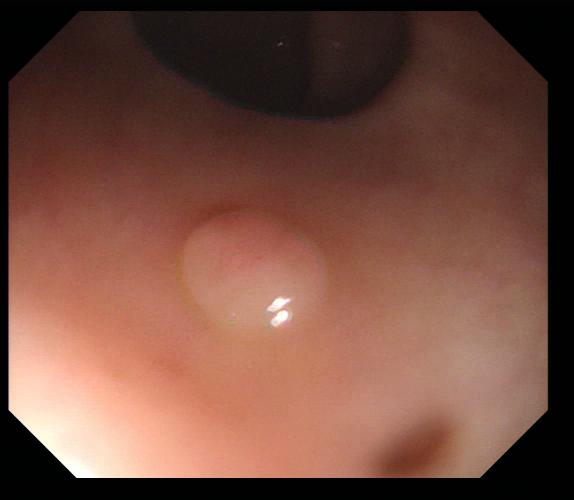polyp: (180, 206, 333, 333)
